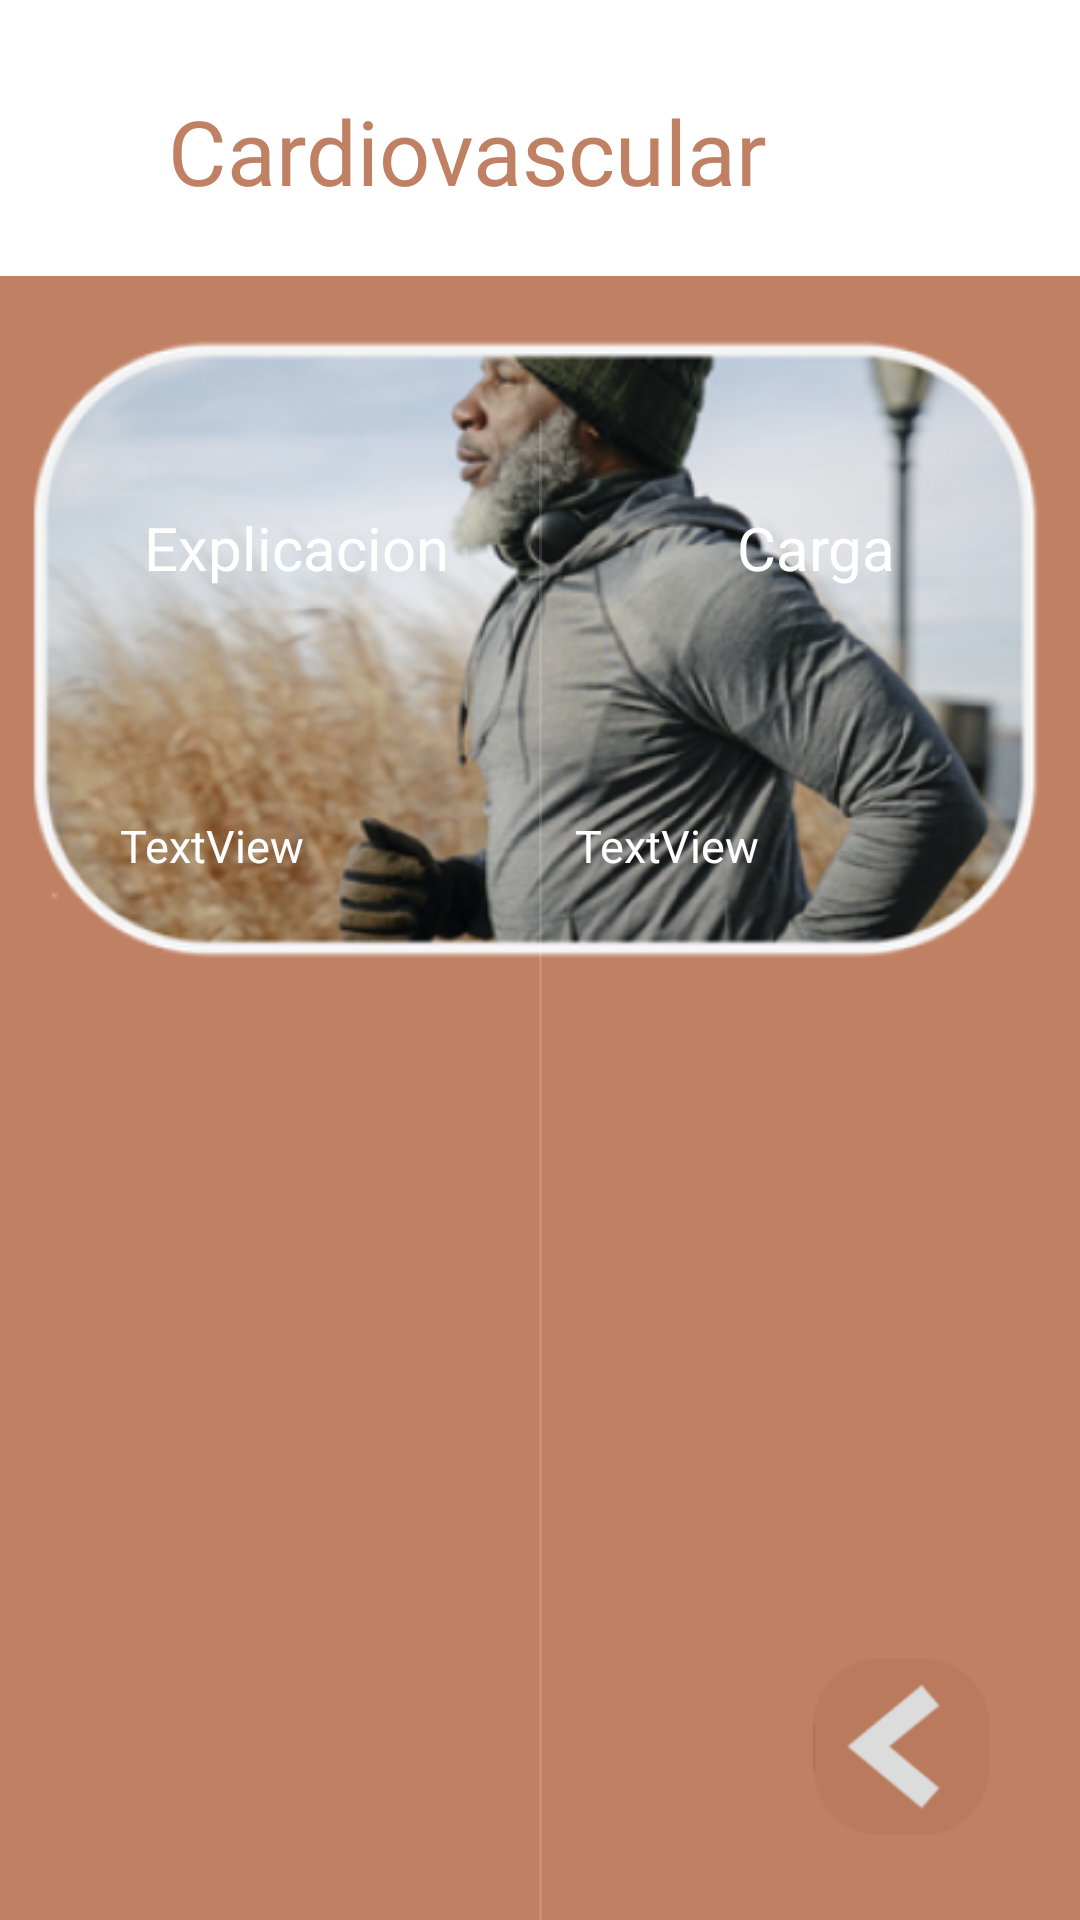

Point at icon controls on the screen. Image size 1080*1920, points as point (x, y).
regresar: point (893, 1746)
